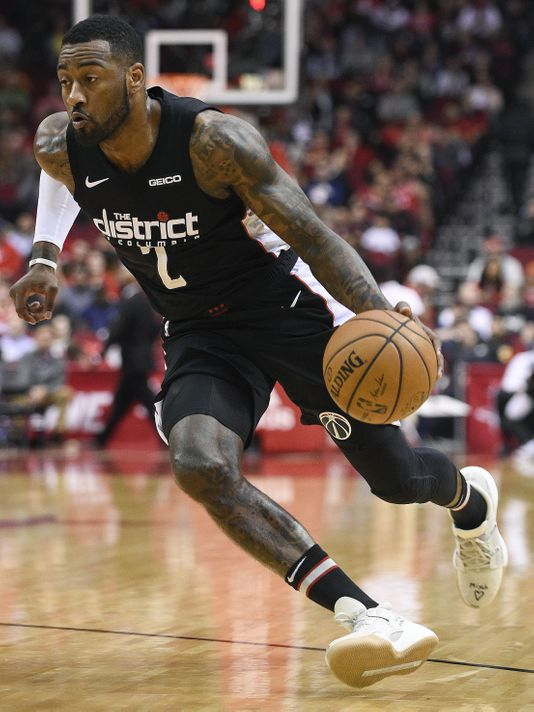Geico: (144, 168, 185, 193)
